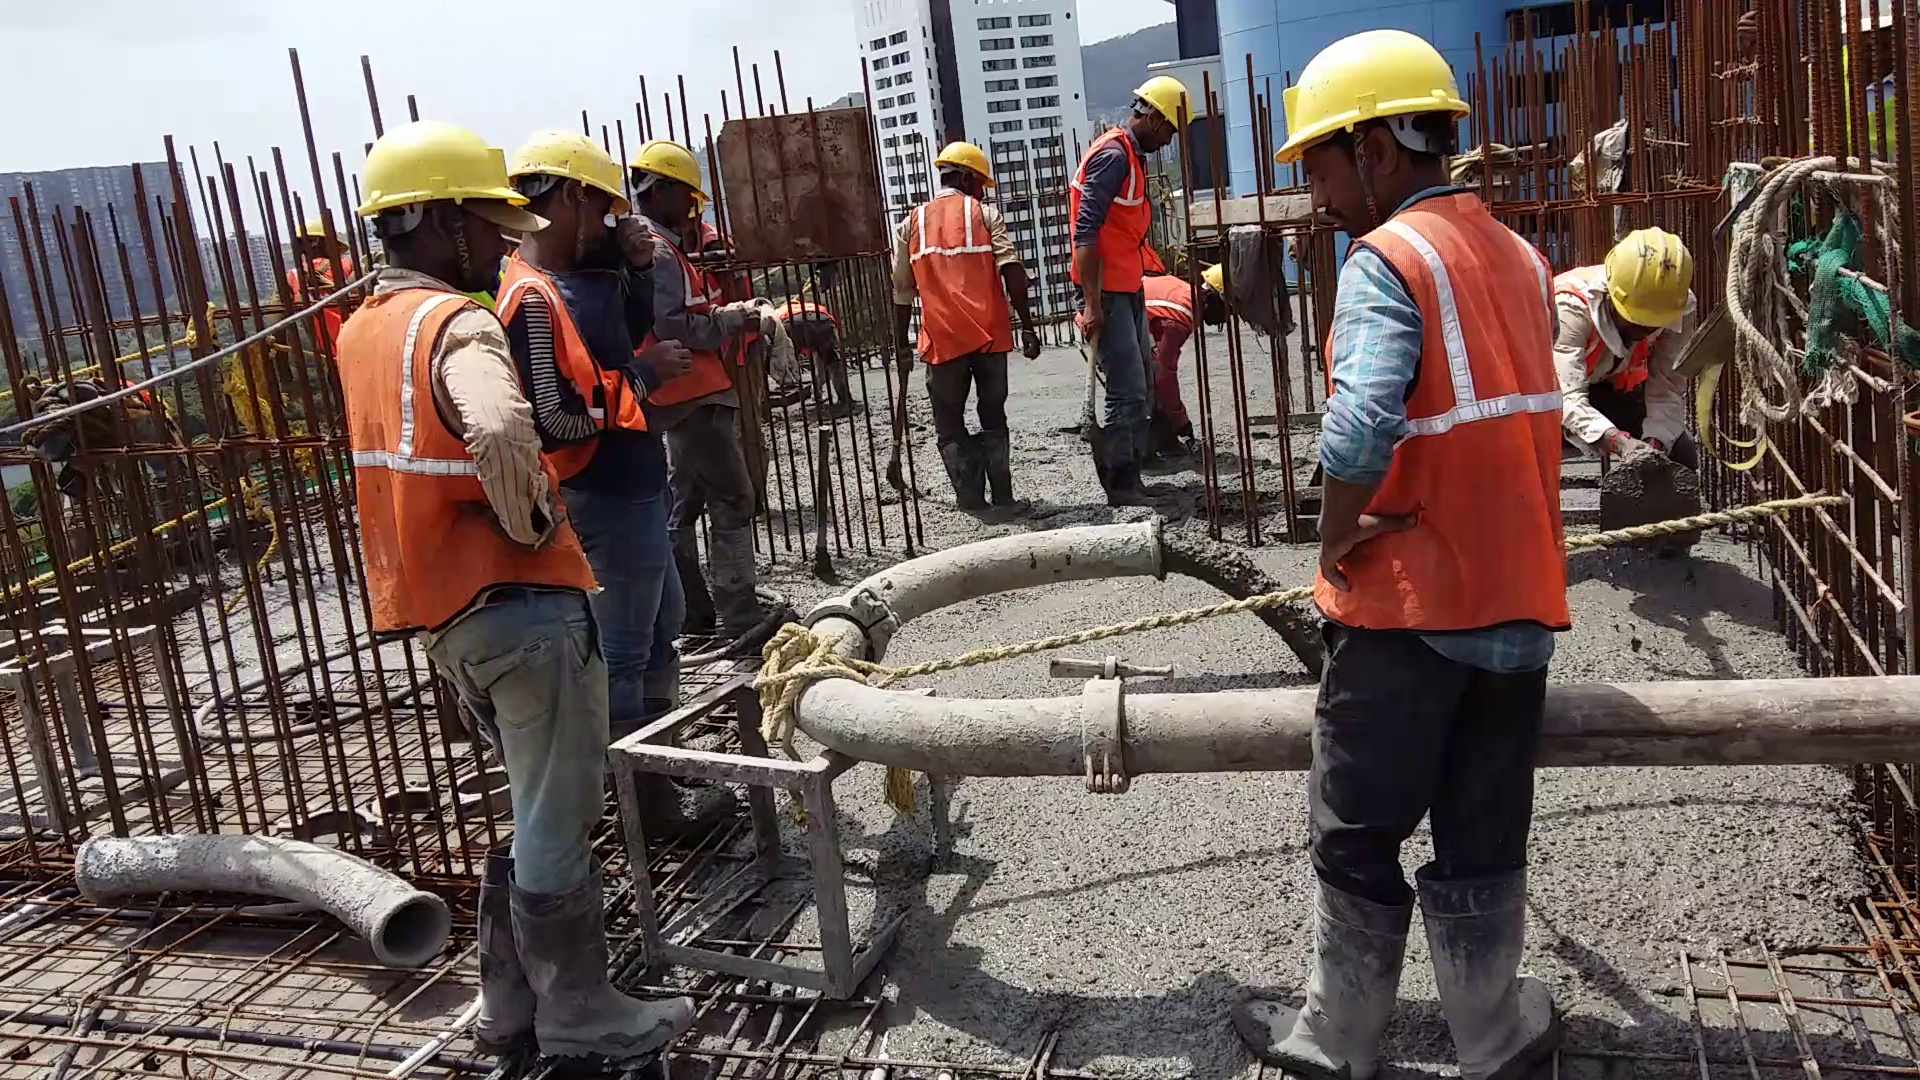SAFE: (1280, 26, 1545, 647), (351, 119, 542, 628), (1063, 70, 1184, 295), (907, 140, 1014, 363)
